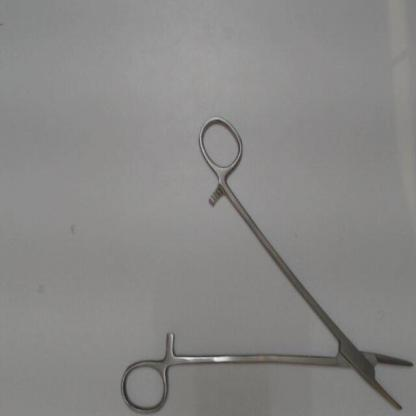8 Mayo Needle Holder: (115, 109, 414, 415)
